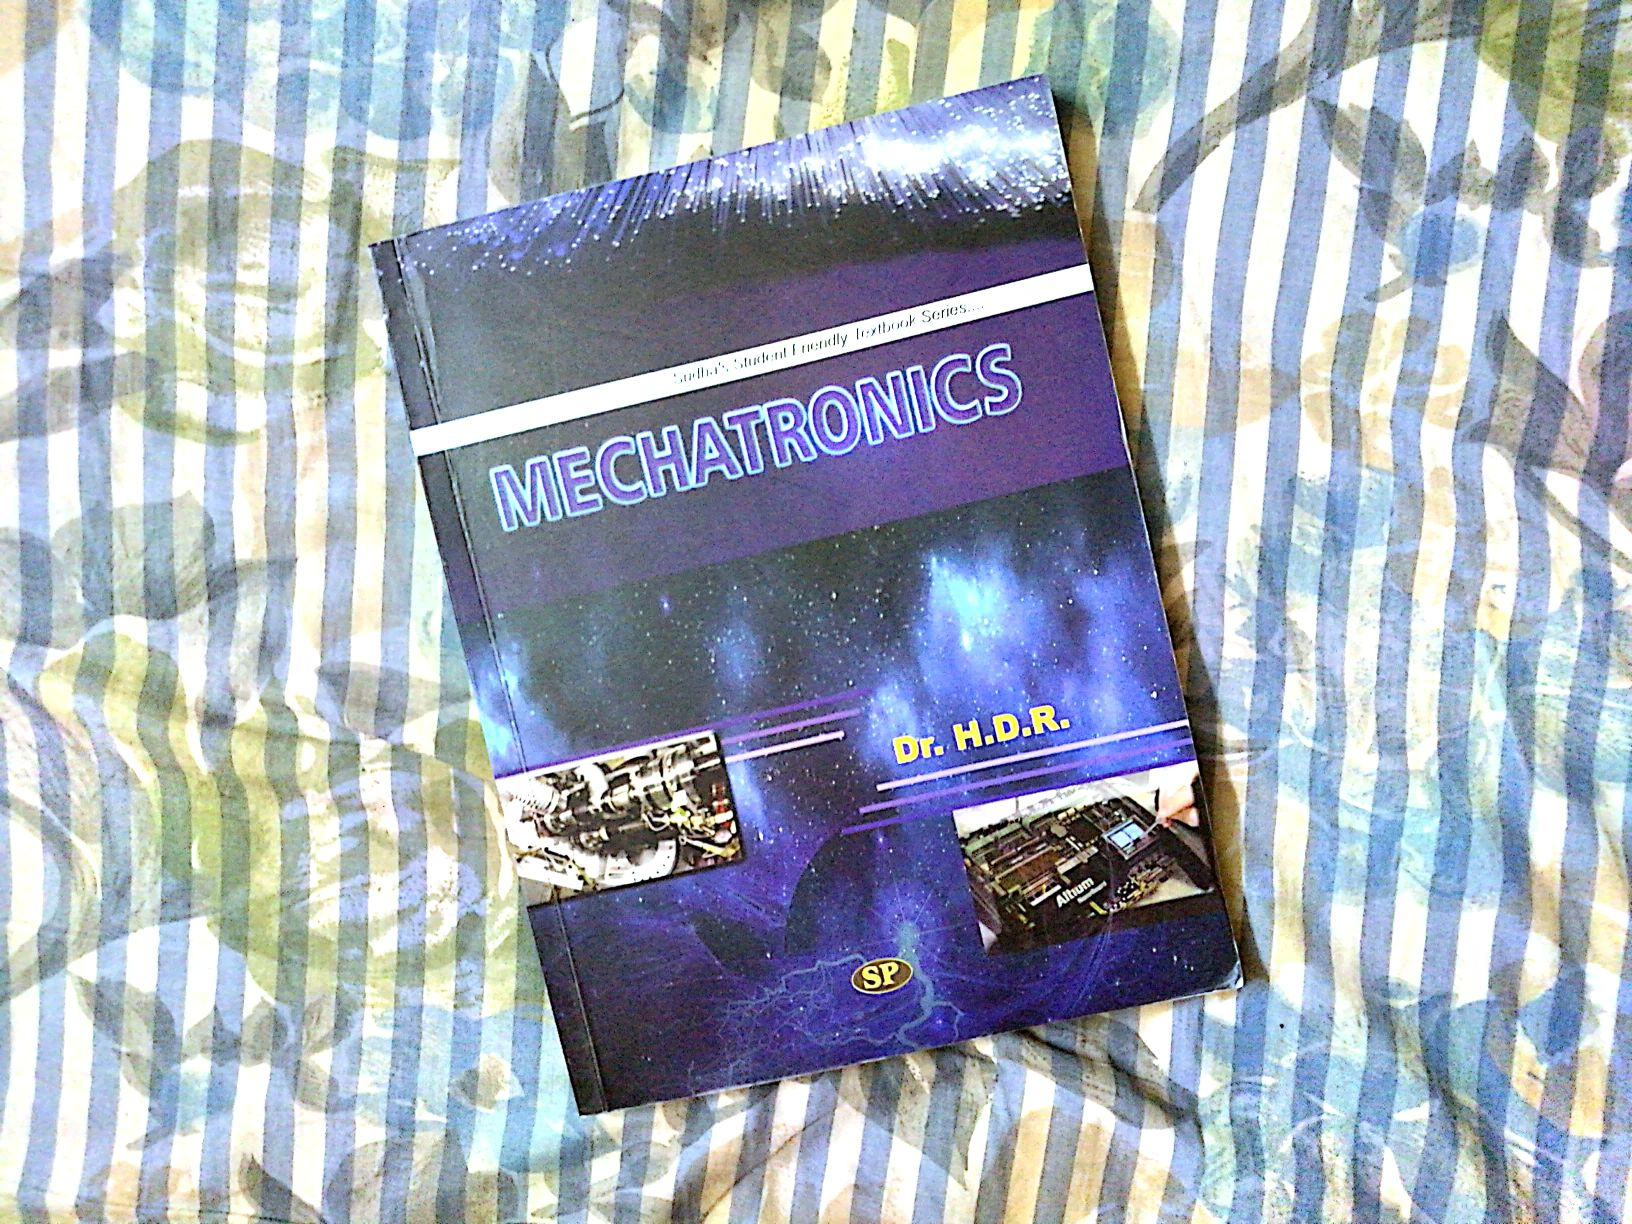mechatronics: (374, 123, 1342, 1022)
